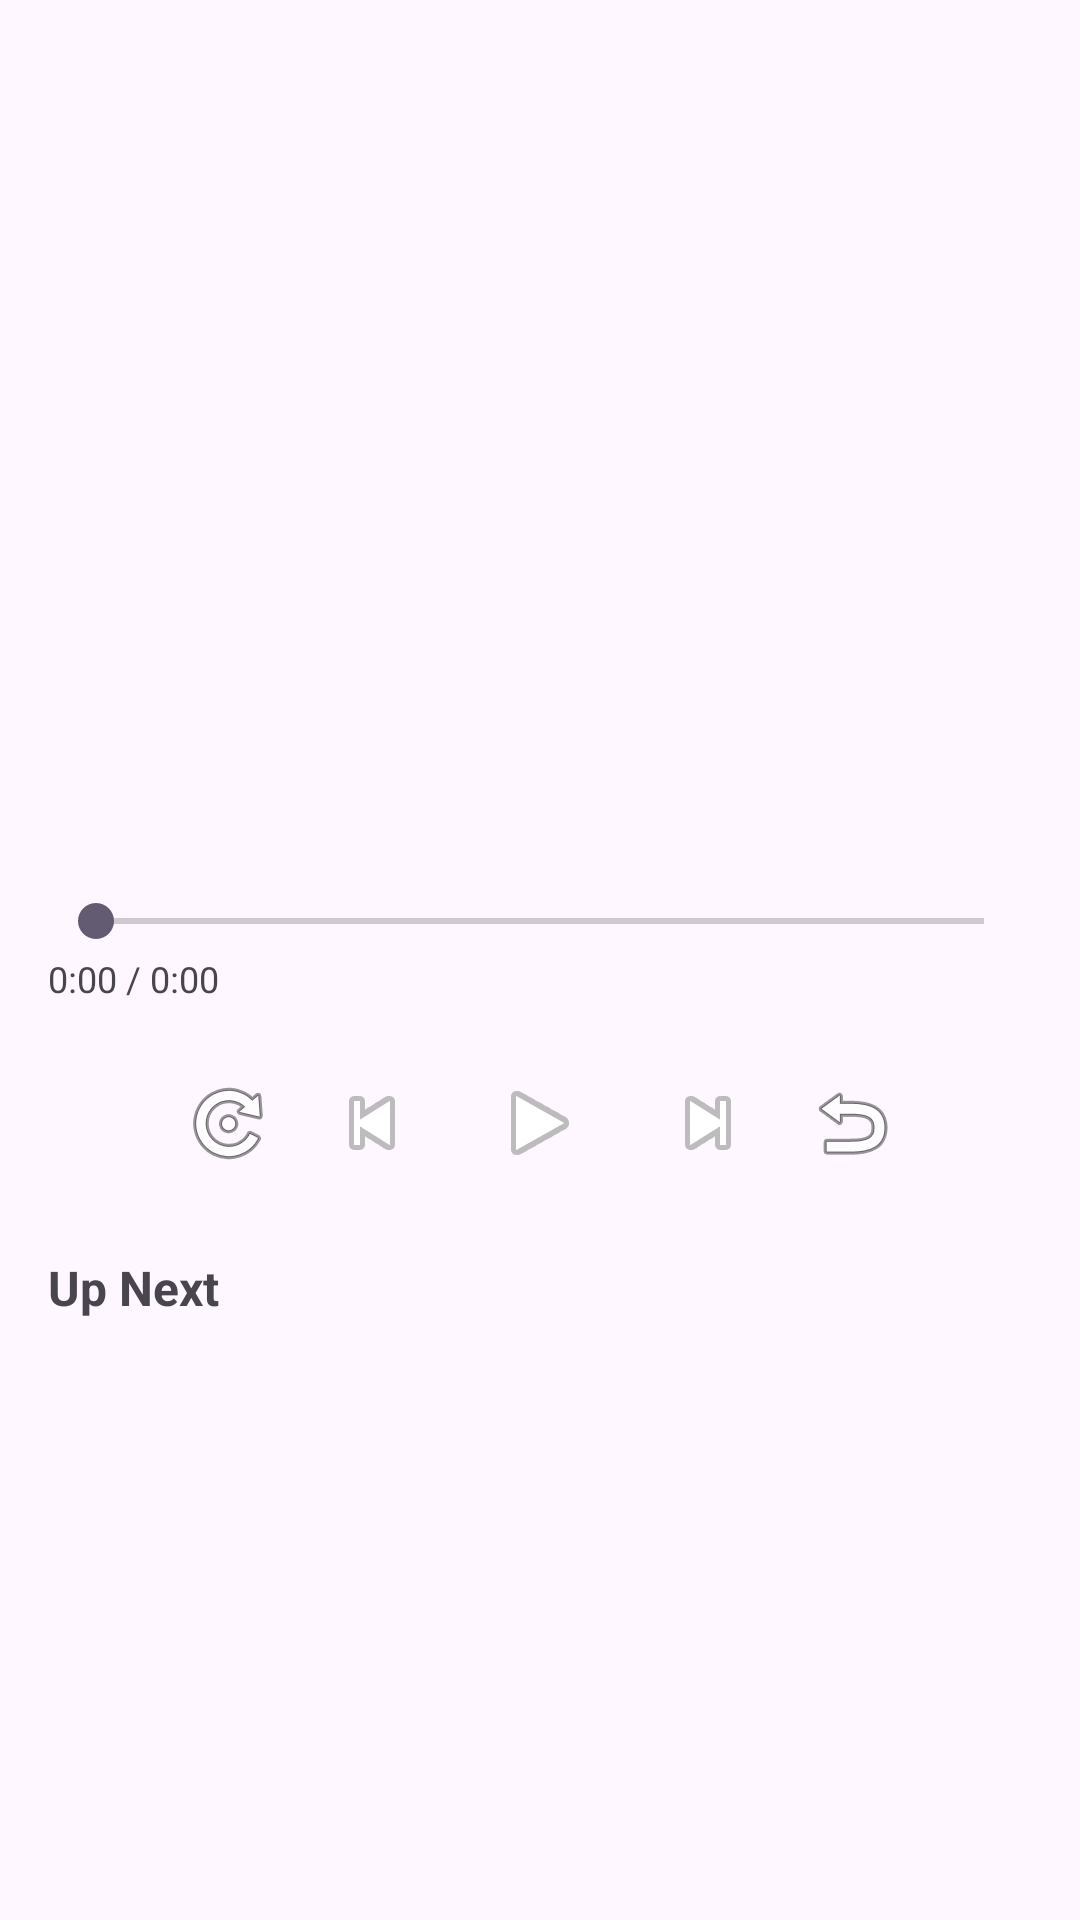

Locate icon controls on the screen. Image size 1080*1920, boxes as (x1, y1, x2, y2).
next: (685, 1096, 731, 1150)
play/pause: (511, 1091, 569, 1155)
repeat: (193, 1088, 263, 1159)
